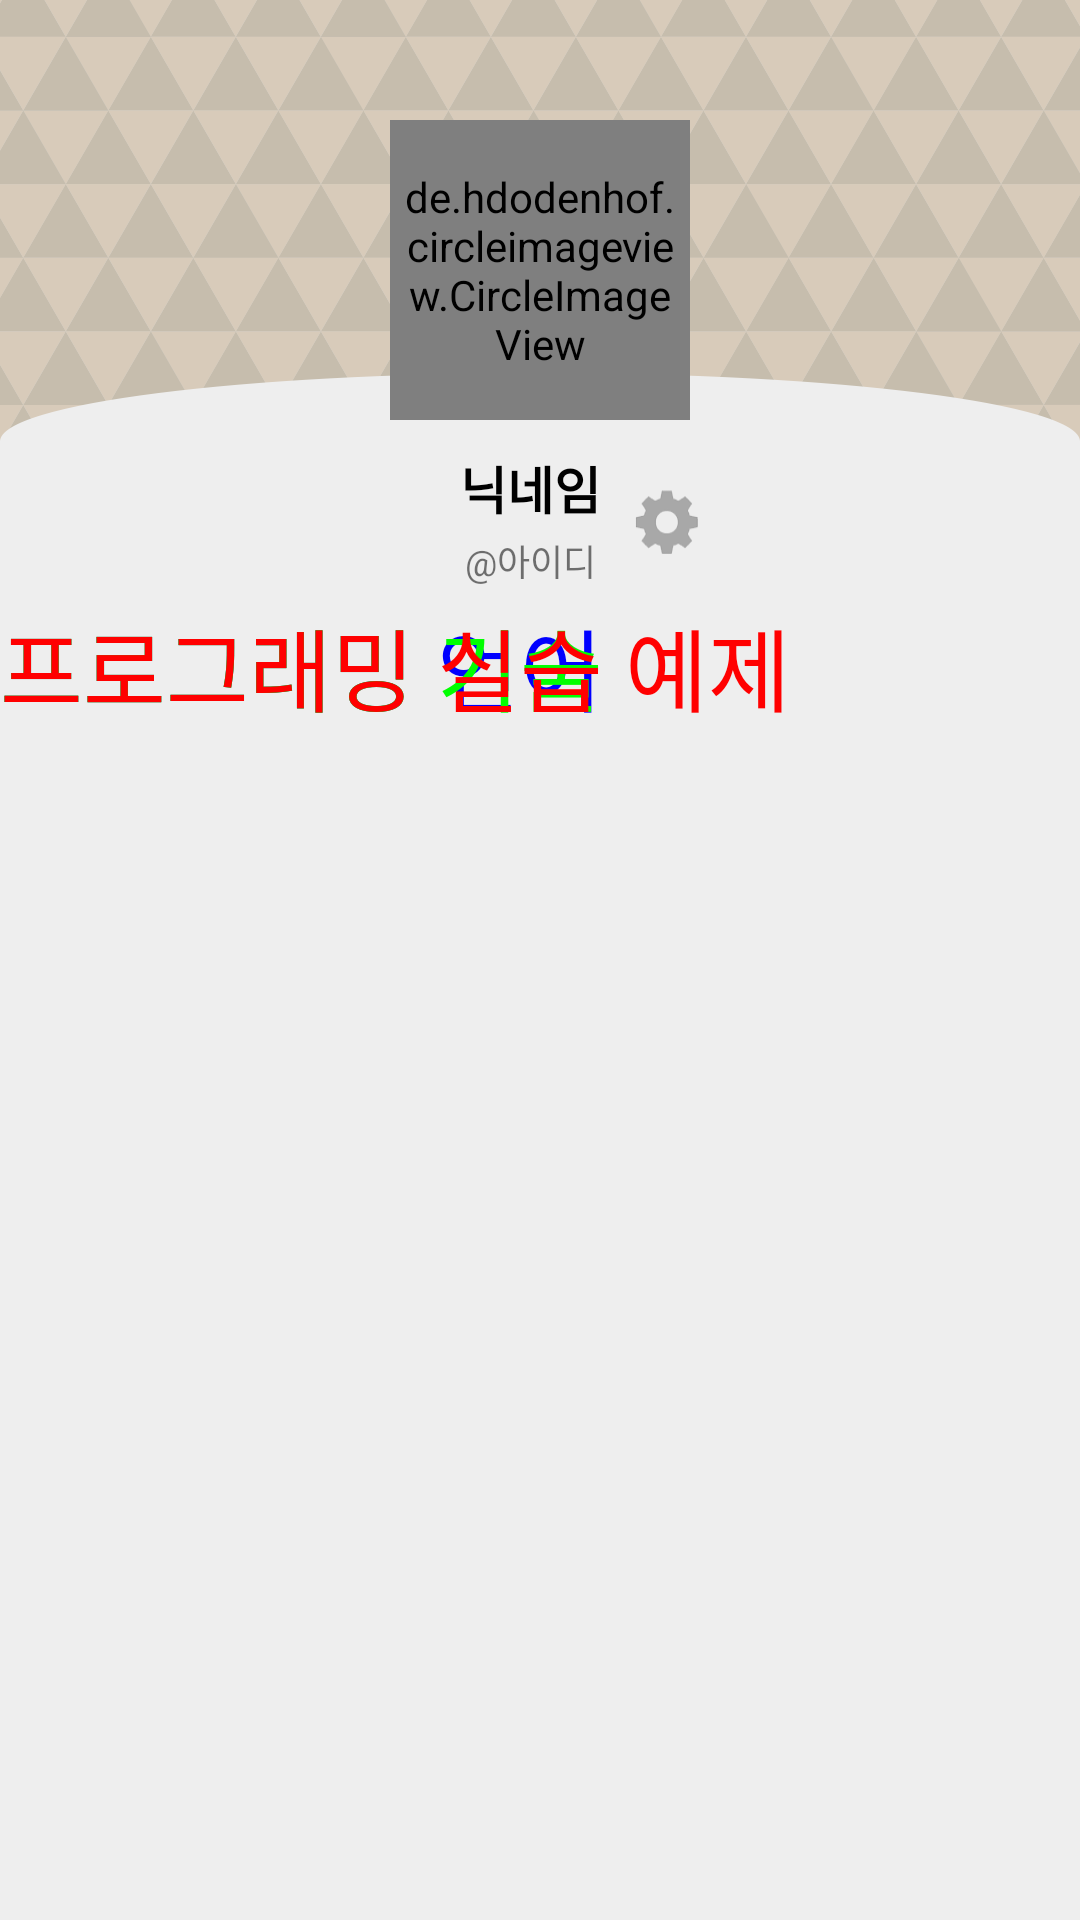

Where icons sit on this 1080 × 1920 app screen, as rect(x1, y1, x2, y2):
gear: rect(636, 490, 698, 554)
